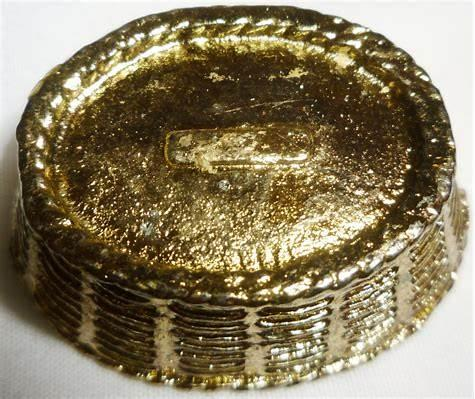metal: (12, 7, 469, 390)
